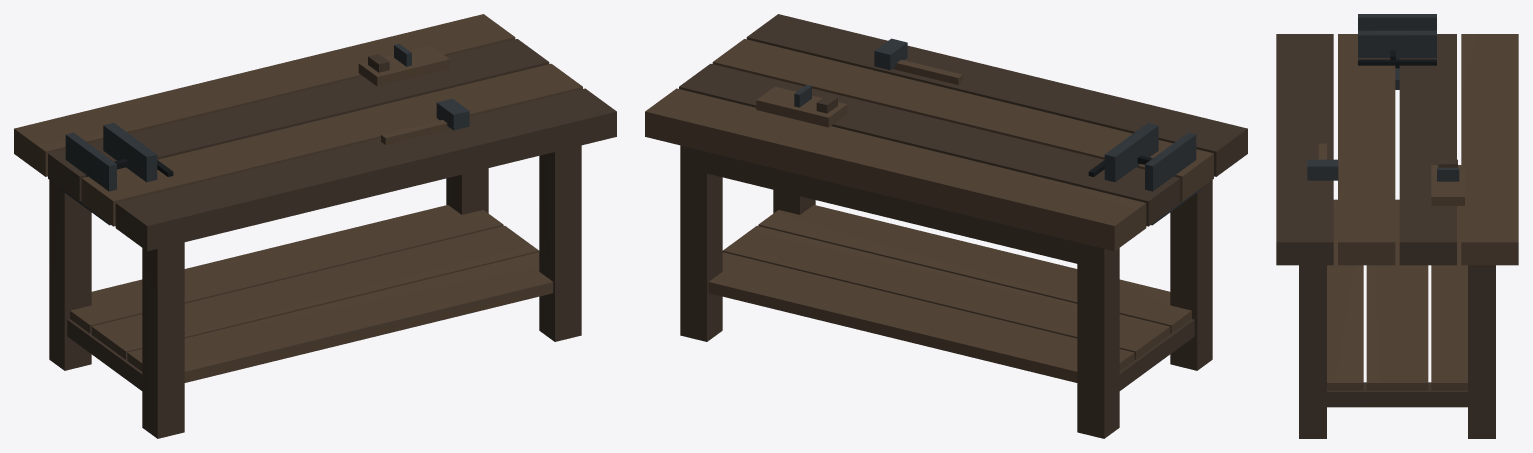
The model's file is workbench.glb.
The picture shows the model from 3 angles, left to right: view 1: azimuth 30°, elevation 25°; view 2: azimuth 150°, elevation 25°; view 3: azimuth 270°, elevation 25°; orthographic projection. The views are drawn at different scales.
Parts seen in each view (by area): view 1: workbench; view 2: workbench; view 3: workbench.
Part boxes in pixels (<box>): workbench: <box>14,14,616,438</box>; workbench: <box>645,14,1247,438</box>; workbench: <box>1276,14,1518,438</box>.
Bounding box in the file's own units: 1.75 × 0.9 × 0.86.
